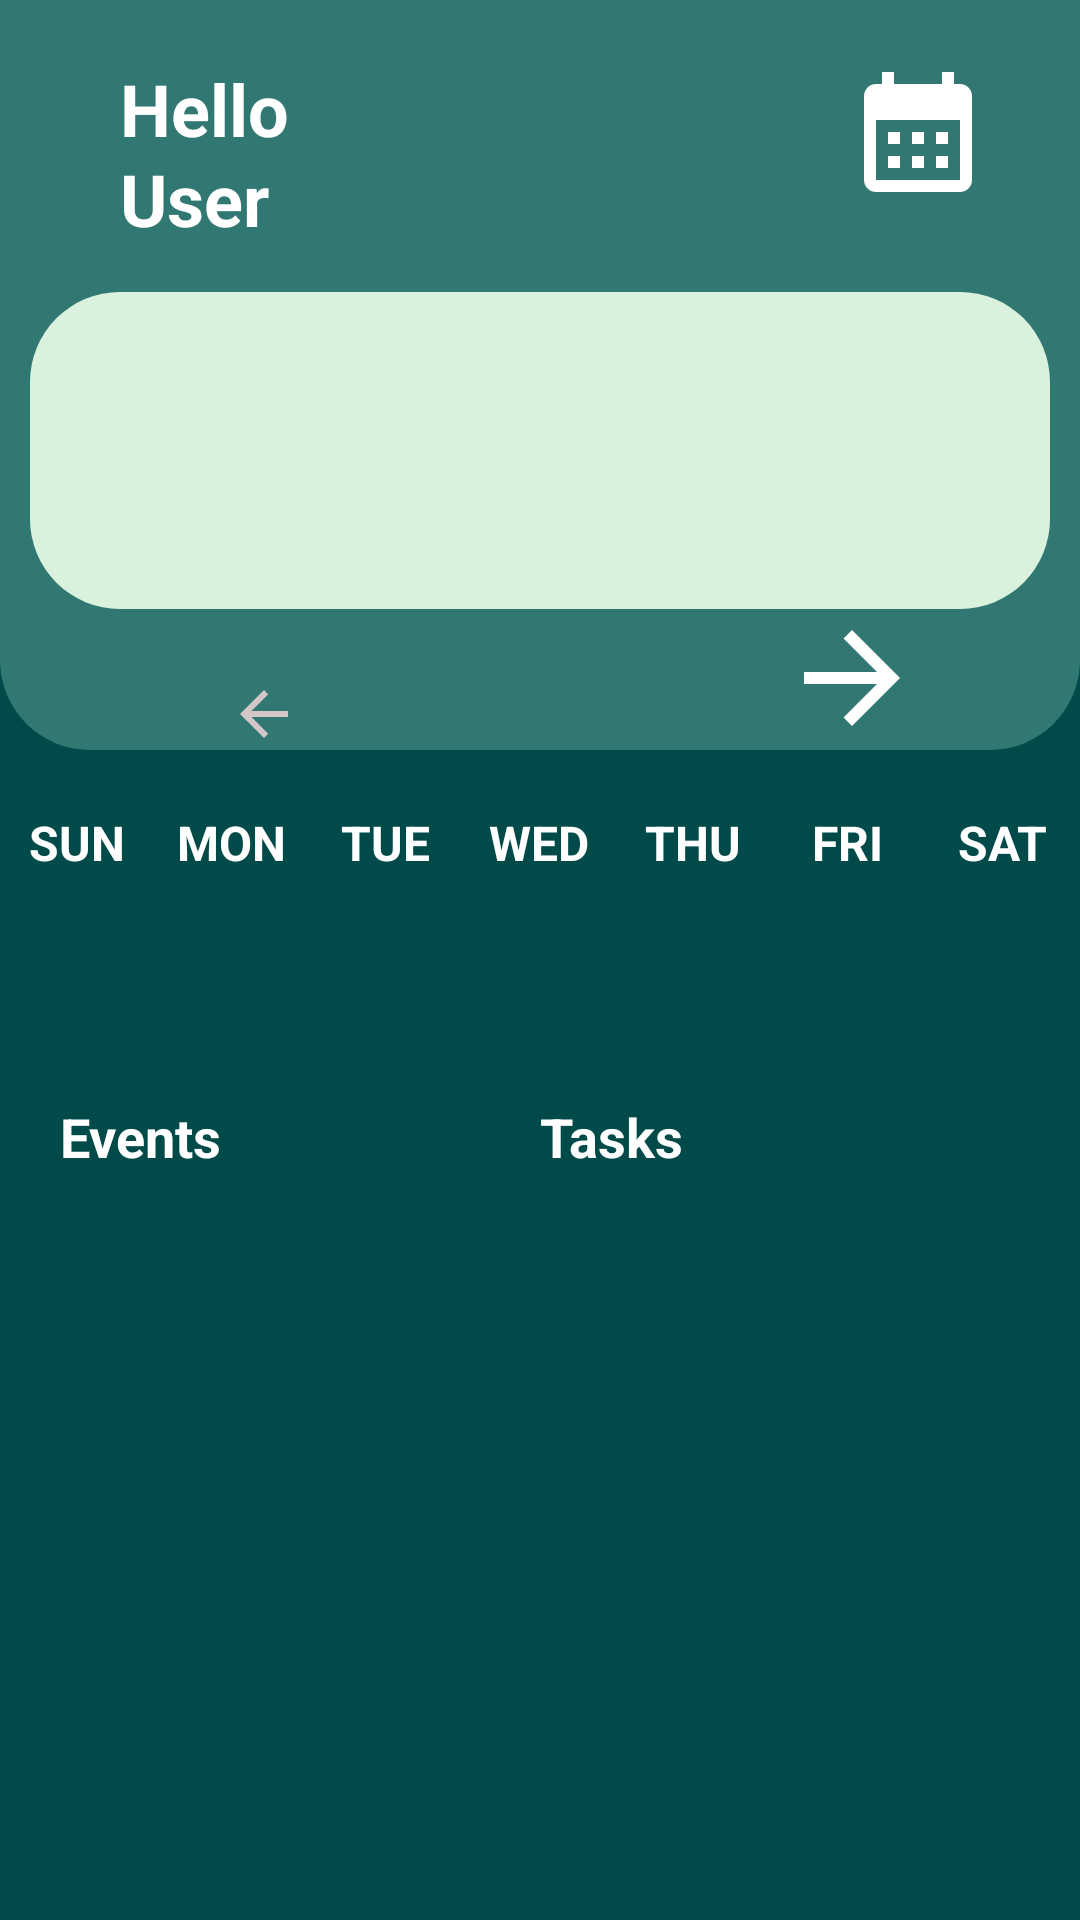

Named icons in this screenshot (1080*1920) and their centers, (x=x, y=y):
Next Week: (x=852, y=678)
Previous Week: (x=264, y=714)
